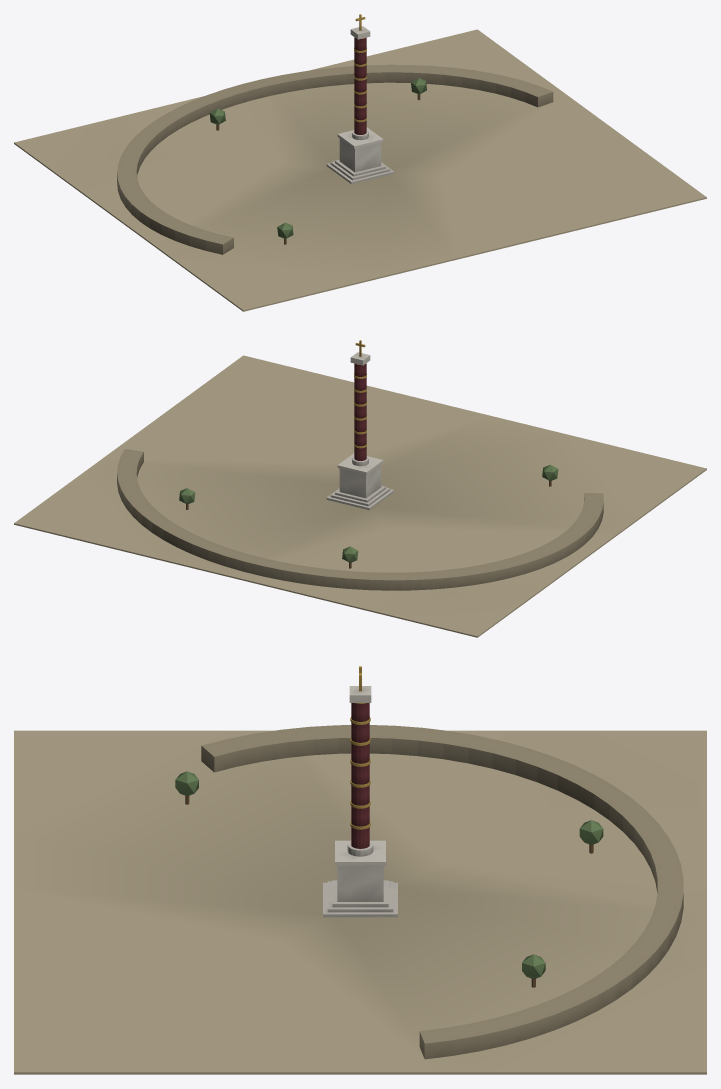
The model's file is column-of-constantine-1453.glb.
The picture shows the model from 3 angles, top to bottom: view 1: azimuth 30°, elevation 25°; view 2: azimuth 150°, elevation 25°; view 3: azimuth 270°, elevation 25°; orthographic projection. The views are drawn at different scales.
Parts seen in each view (by area): view 1: p0_ground, p1_ruins, p2_column; view 2: p0_ground, p1_ruins, p2_column; view 3: p0_ground, p1_ruins, p2_column.
Boxes of the visible parts, x1,y1,x2,y2 form: p0_ground: (14, 29, 706, 311); p1_ruins: (117, 64, 553, 254); p2_column: (326, 14, 394, 184); p0_ground: (14, 355, 706, 637); p1_ruins: (117, 449, 603, 590); p2_column: (326, 340, 394, 510); p0_ground: (14, 730, 706, 1074); p1_ruins: (175, 725, 683, 1059); p2_column: (323, 666, 397, 917).
Bounding box in the file's own units: 140 × 45.2 × 120.
